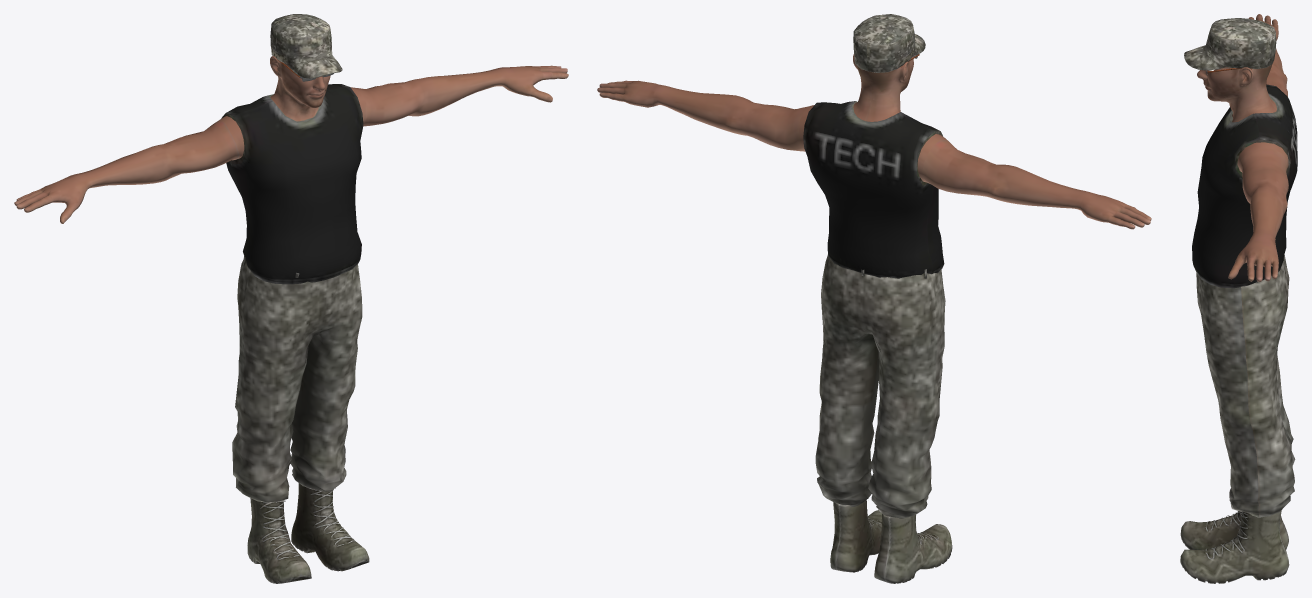
The model's file is person-tech.glb.
The picture shows the model from 3 angles, left to right: view 1: azimuth 30°, elevation 25°; view 2: azimuth 150°, elevation 25°; view 3: azimuth 270°, elevation 25°; orthographic projection.
Parts seen in each view (by area): view 1: Body__0; view 2: Body__0; view 3: Body__0.
Part boxes in pixels (x1,y1,x2,y2): Body__0: [14, 14, 568, 583]; Body__0: [597, 14, 1151, 583]; Body__0: [1180, 14, 1297, 583].
Bounding box in the file's own units: 1.92 × 1.8 × 0.3563.
1 material, 1 textured.
